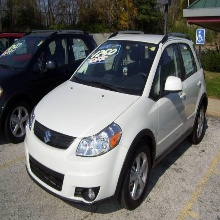no damage: (25, 30, 208, 210), (1, 30, 92, 138)
